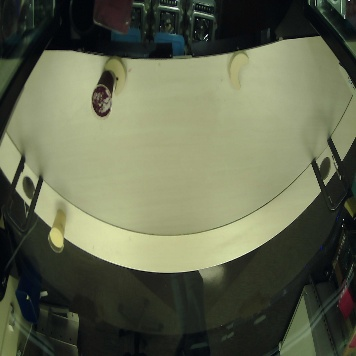full_cup: (91, 68, 116, 122), (46, 200, 71, 254)
puck: (226, 48, 254, 94), (102, 53, 130, 99)
